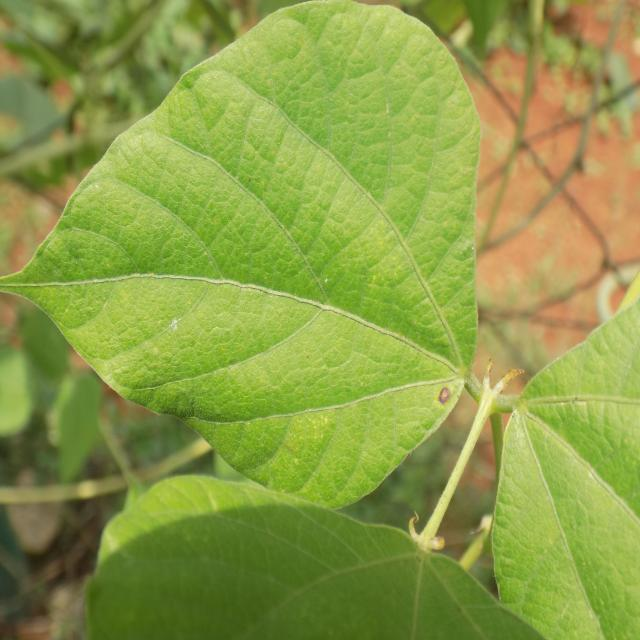Dolicos bean_cercospora leaf spot: (0, 0, 478, 504)
